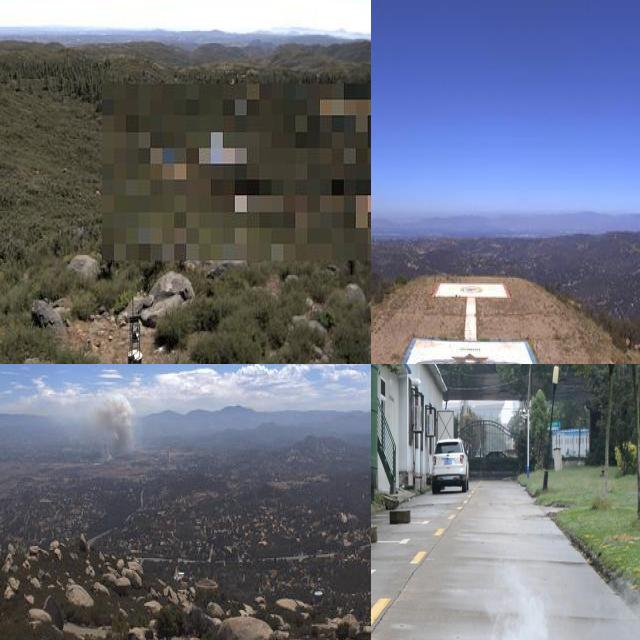smoke: (371, 576, 552, 640), (77, 389, 143, 466), (596, 588, 640, 640)
